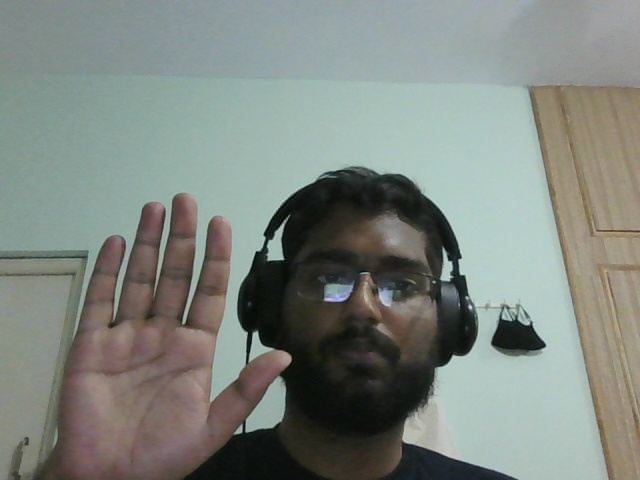Hello: (45, 187, 296, 476)
